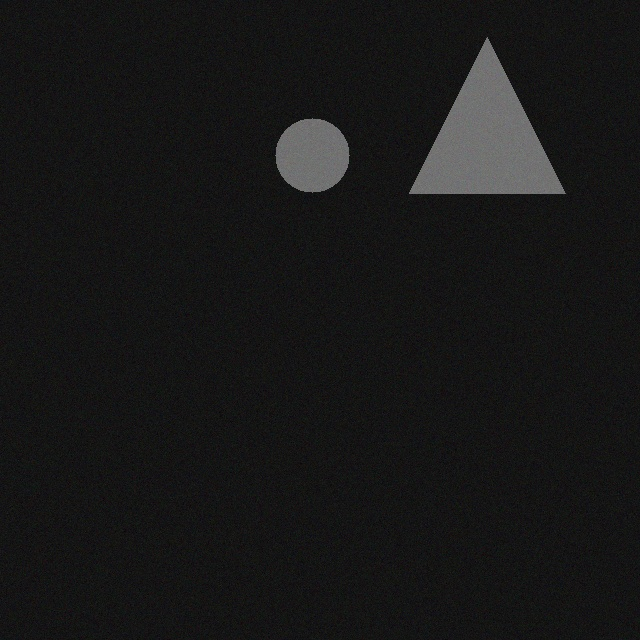circle: (283, 129, 357, 203)
triangle: (417, 48, 573, 204)
